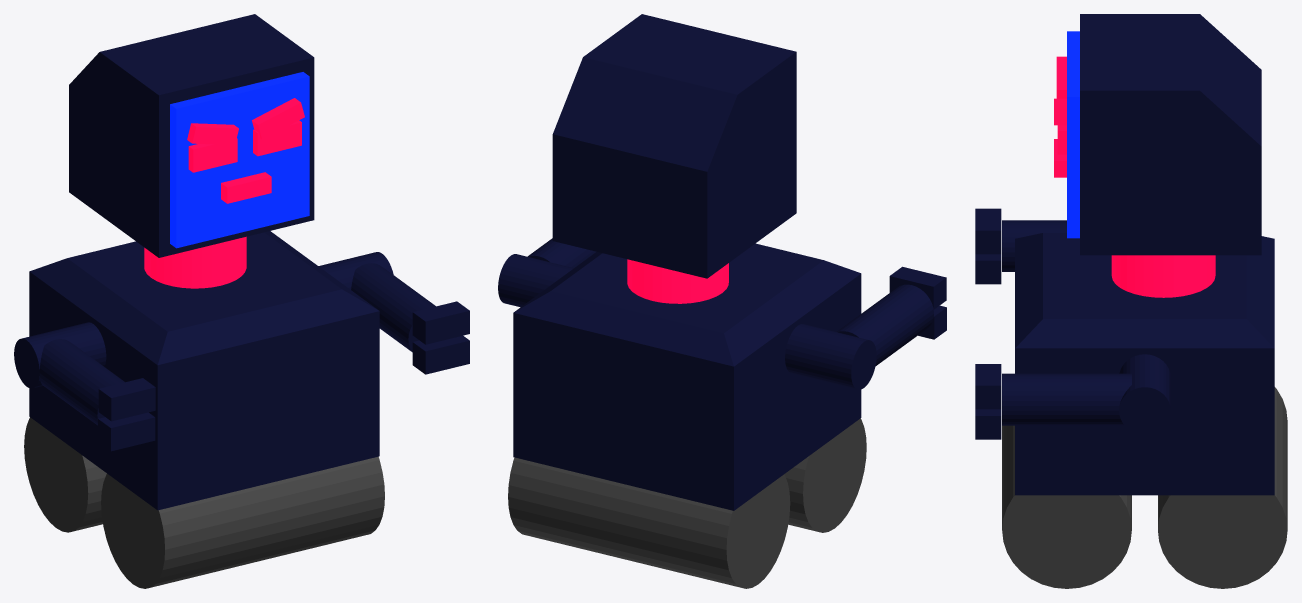
The model's file is robot.fbx.
The picture shows the model from 3 angles, left to right: view 1: azimuth 30°, elevation 25°; view 2: azimuth 150°, elevation 25°; view 3: azimuth 270°, elevation 25°; orthographic projection.
Parts seen in each view (by area): view 1: Cube, Cube.001, Cylinder.002, Cube.002, Cylinder.001, Cylinder.006, Cylinder, Cylinder.005, Cylinder.004, Cube.012, Cube.010, Cube.011 (+7 smaller); view 2: Cube, Cube.001, Cylinder.001, Cylinder.002, Cylinder.004, Cylinder.006, Cylinder, Cylinder.003, Cube.010, Cylinder.005; view 3: Cube, Cube.001, Cylinder.001, Cylinder.002, Cylinder.005, Cylinder, Cylinder.003, Cube.002, Cylinder.006, Cube.010, Cube.012, Cube.009 (+2 smaller).
Part boxes in pixels (x1=…): Cube: x1=29, y1=231, x2=379, y2=510; Cube.001: x1=69, y1=14, x2=314, y2=257; Cylinder.002: x1=101, y1=456, x2=384, y2=588; Cube.002: x1=170, y1=72, x2=309, y2=248; Cylinder.001: x1=24, y1=417, x2=106, y2=532; Cylinder.006: x1=39, y1=339, x2=124, y2=425; Cylinder: x1=144, y1=236, x2=246, y2=288; Cylinder.005: x1=351, y1=263, x2=435, y2=352; Cylinder.004: x1=14, y1=322, x2=106, y2=388; Cube.012: x1=412, y1=301, x2=469, y2=344; Cube.010: x1=98, y1=378, x2=155, y2=421; Cube.011: x1=98, y1=412, x2=155, y2=451; Cube: x1=513, y1=243, x2=861, y2=510; Cube.001: x1=552, y1=14, x2=796, y2=278; Cylinder.001: x1=508, y1=457, x2=790, y2=588; Cylinder.002: x1=784, y1=418, x2=866, y2=532; Cylinder.004: x1=785, y1=324, x2=876, y2=389; Cylinder.006: x1=837, y1=284, x2=933, y2=366; Cylinder: x1=627, y1=259, x2=728, y2=303; Cylinder.003: x1=498, y1=254, x2=573, y2=307; Cube.010: x1=889, y1=266, x2=946, y2=309; Cylinder.005: x1=528, y1=238, x2=596, y2=267; Cube: x1=1015, y1=233, x2=1274, y2=495; Cube.001: x1=1080, y1=14, x2=1261, y2=255; Cylinder.001: x1=1158, y1=387, x2=1287, y2=588; Cylinder.002: x1=1002, y1=425, x2=1131, y2=588; Cylinder.005: x1=1002, y1=373, x2=1131, y2=425; Cylinder: x1=1111, y1=255, x2=1215, y2=297; Cylinder.003: x1=1119, y1=354, x2=1170, y2=434; Cube.002: x1=1067, y1=31, x2=1079, y2=238; Cylinder.006: x1=1002, y1=220, x2=1066, y2=271; Cube.010: x1=975, y1=208, x2=1001, y2=254; Cube.012: x1=975, y1=364, x2=1001, y2=409; Cube.009: x1=975, y1=409, x2=1001, y2=439.
Bounding box in the file's own units: 324 × 410 × 241.
